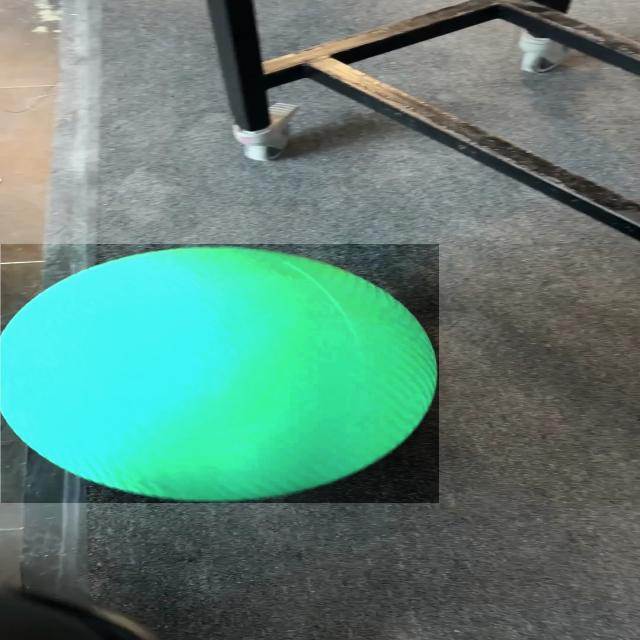Algae: (1, 244, 439, 503)
